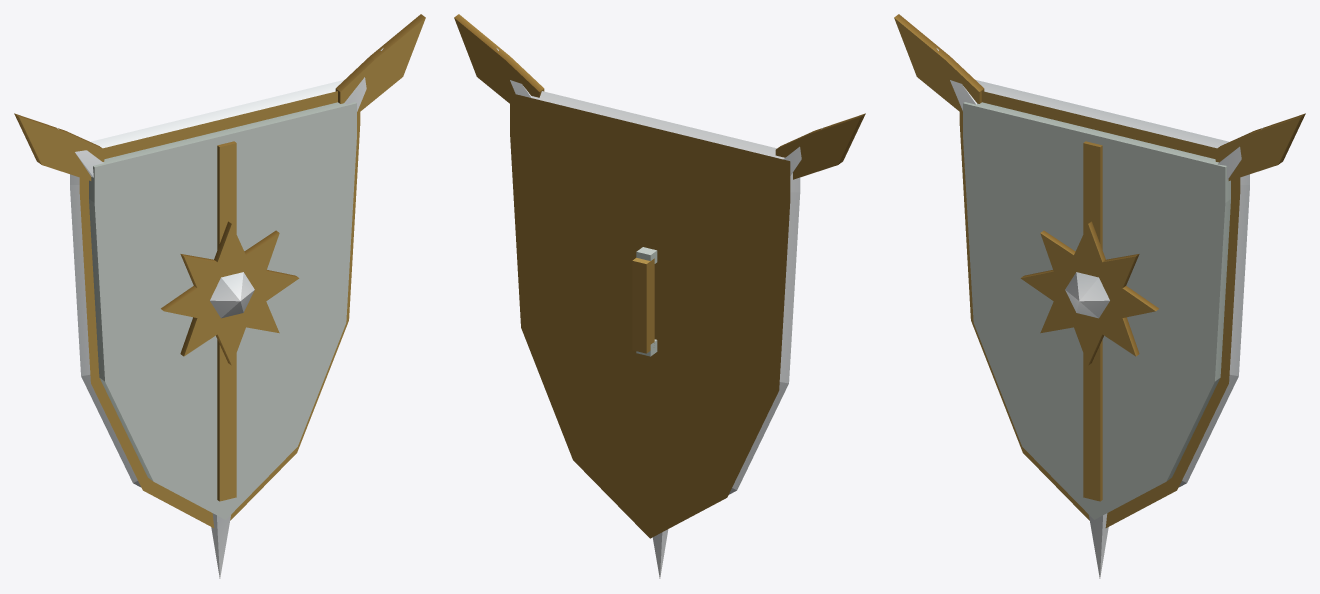
File: knight_off_4.gltf
The picture shows the model from 3 angles, left to right: view 1: azimuth 30°, elevation 25°; view 2: azimuth 150°, elevation 25°; view 3: azimuth 330°, elevation 25°; orthographic projection.
Visible parts, largest first — view 1: knight_off_4; view 2: knight_off_4; view 3: knight_off_4.
Boxes of the visible parts, <box> form: knight_off_4: <box>14,14,425,578</box>; knight_off_4: <box>454,14,865,578</box>; knight_off_4: <box>894,14,1305,578</box>.
Bounding box in the file's own units: 1.43 × 1.72 × 0.25.
Materials: 1 (1 with a texture image).
